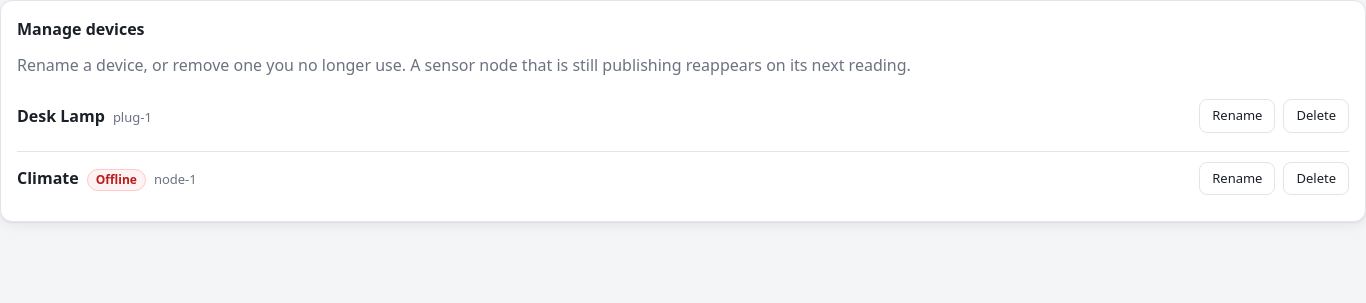
Scenario: DeviceManagementPanel › surfaces an error when a rename fails
Click the button "Rename" in the row of "Desk Lamp": (1237, 116) [1199,99,1275,132]
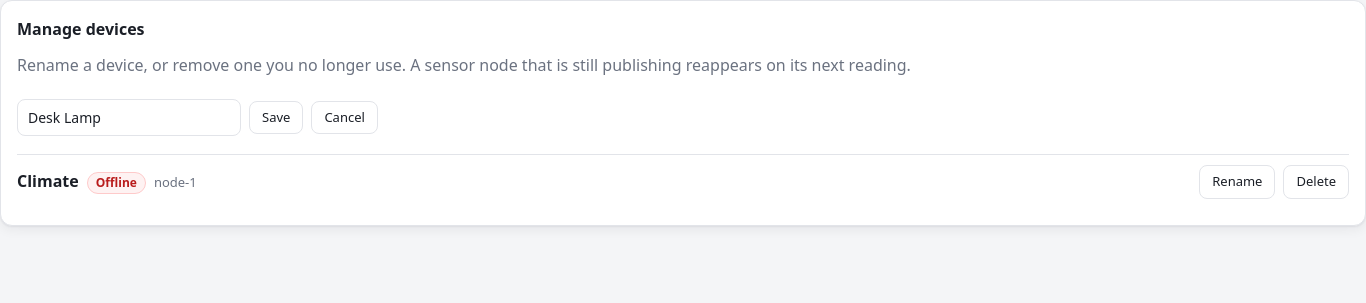
Replace the text in the field named "New name for Desk Lamp" with "Nope": (129, 118) [17,99,241,136]
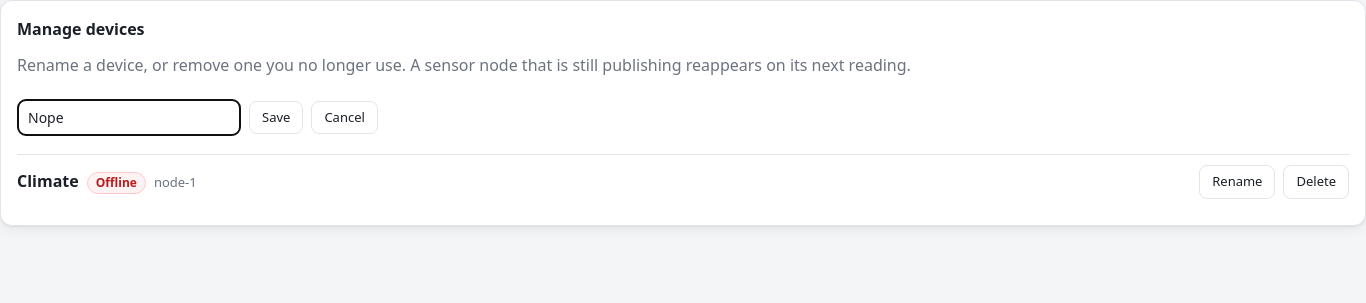
Click the button "Save": (276, 118) [249,101,303,134]
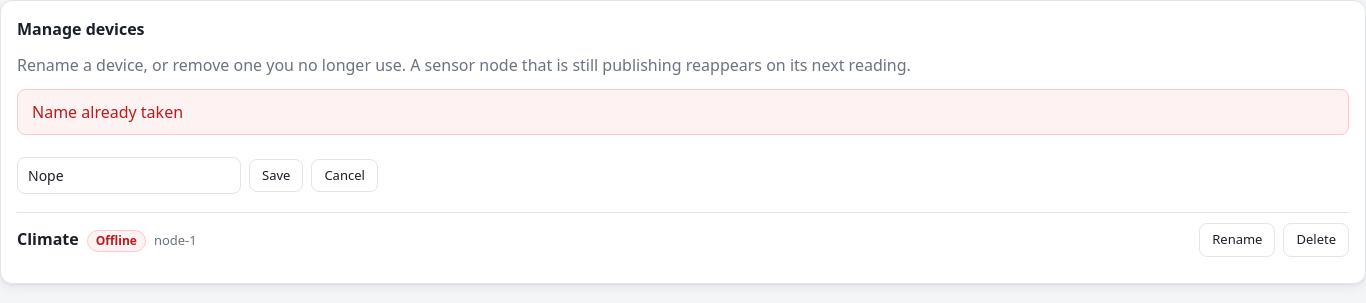
Check: the message reads "Name already taken", box [32,101,183,123]
